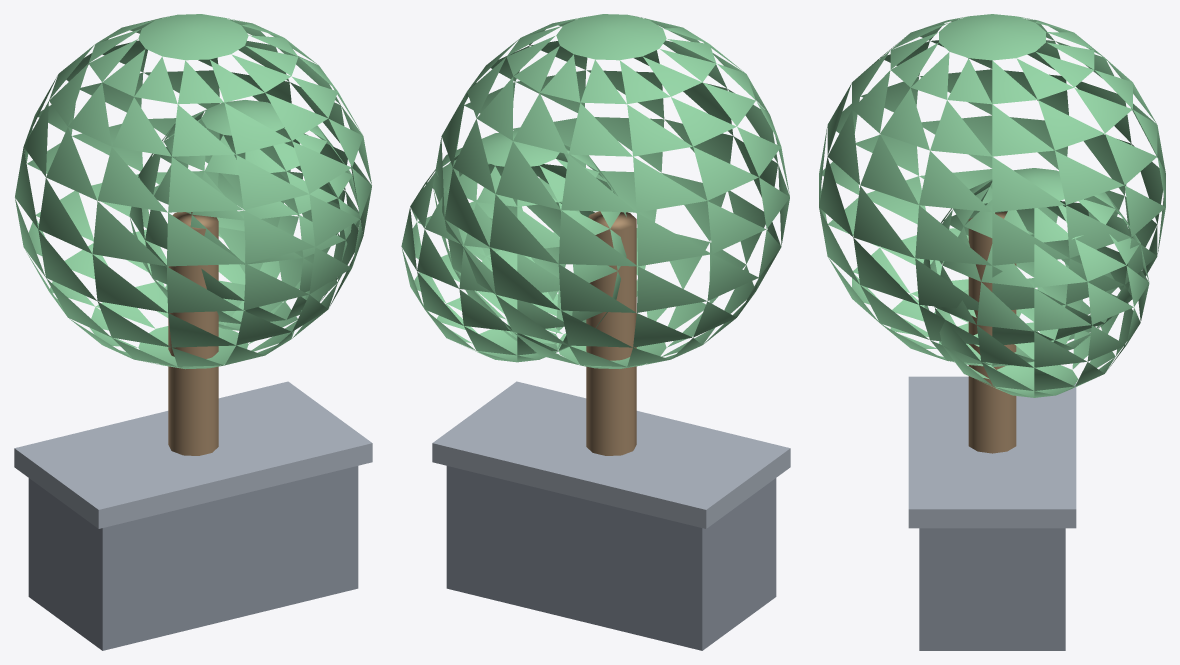
The model's file is prop_planter.glb.
The picture shows the model from 3 angles, left to right: view 1: azimuth 30°, elevation 25°; view 2: azimuth 150°, elevation 25°; view 3: azimuth 270°, elevation 25°; orthographic projection.
Parts seen in each view (by area): view 1: PropPlanter_14, PropPlanter_1, PropPlanter_0, PropPlanter_9; view 2: PropPlanter_14, PropPlanter_1, PropPlanter_0, PropPlanter_9; view 3: PropPlanter_14, PropPlanter_0, PropPlanter_1, PropPlanter_9.
Part boxes in pixels (x1,y1,x2,y2): PropPlanter_14: (15,14,371,369); PropPlanter_1: (28,466,358,650); PropPlanter_0: (14,381,372,528); PropPlanter_9: (168,212,218,455); PropPlanter_14: (401,14,789,368); PropPlanter_1: (446,466,776,650); PropPlanter_0: (432,381,790,528); PropPlanter_9: (586,211,636,455); PropPlanter_14: (819,14,1165,397); PropPlanter_0: (908,376,1076,528); PropPlanter_1: (919,528,1065,650); PropPlanter_9: (968,211,1016,453).
Size of the model in its own units: 1.8 by 2.95 by 1.66.
